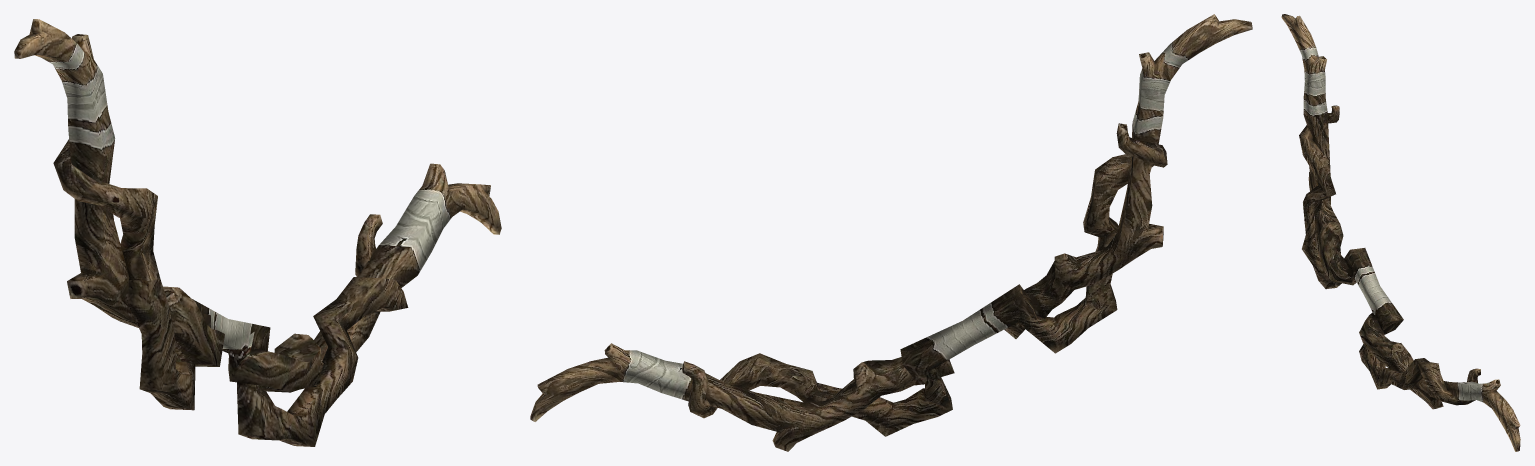
File: weapon-base.glb
The picture shows the model from 3 angles, left to right: view 1: azimuth 30°, elevation 25°; view 2: azimuth 150°, elevation 25°; view 3: azimuth 270°, elevation 25°; orthographic projection. The views are drawn at different scales.
Bounding box in the file's own units: 0.959 × 0.7351 × 0.5516.
1 material, 1 textured.
